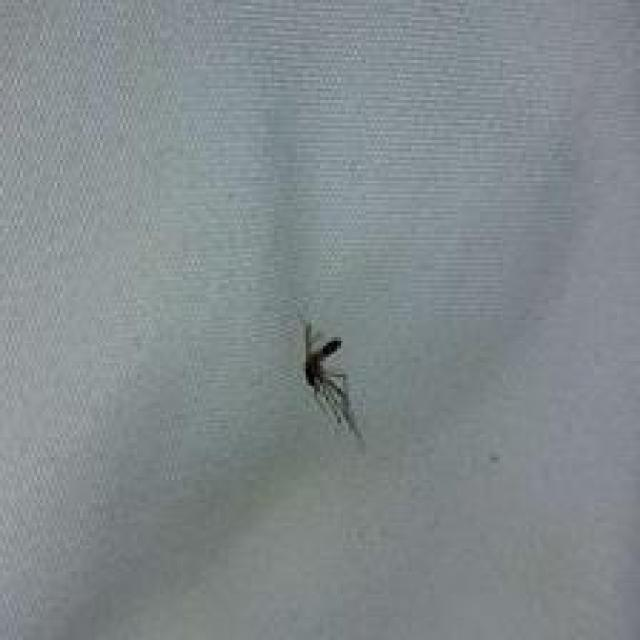Culex: (300, 322, 363, 442)
